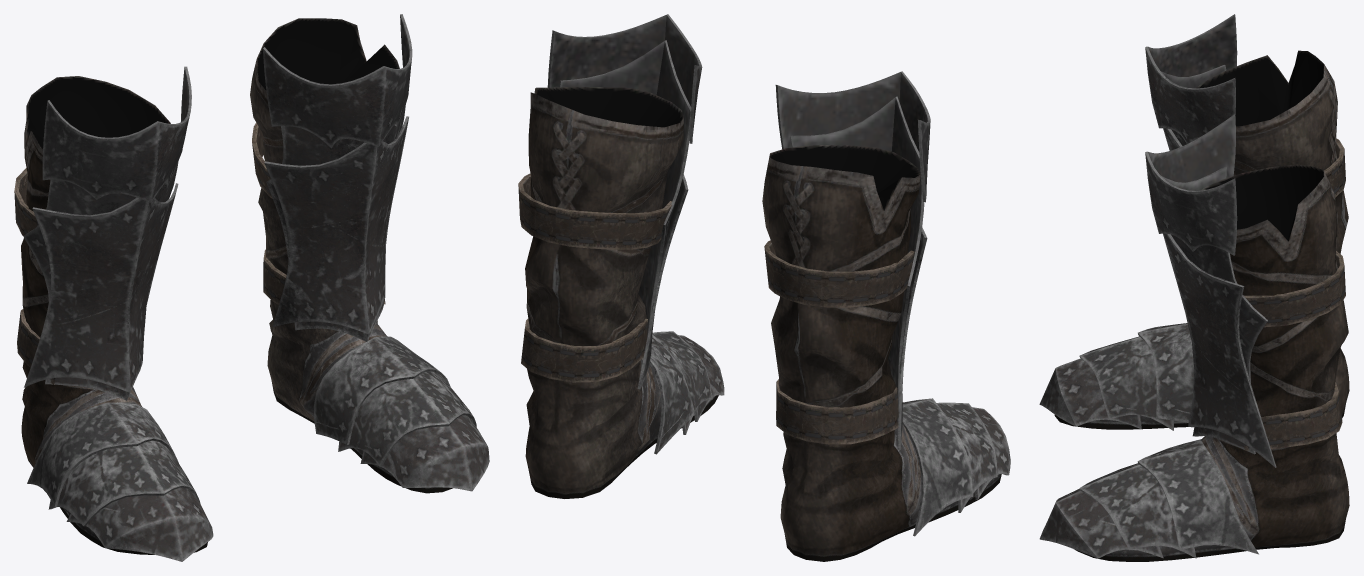
Rendered from sk_uruk_mordor_greaves_heavy_b.fbx.
The picture shows the model from 3 angles, left to right: view 1: azimuth 30°, elevation 25°; view 2: azimuth 150°, elevation 25°; view 3: azimuth 270°, elevation 25°; orthographic projection. The views are drawn at different scales.
Parts seen in each view (by area): view 1: sk_uruk_mordor_greaves_heavy_b.0, sk_uruk_mordor_greaves_heavy_b.1; view 2: sk_uruk_mordor_greaves_heavy_b.0, sk_uruk_mordor_greaves_heavy_b.1; view 3: sk_uruk_mordor_greaves_heavy_b.0, sk_uruk_mordor_greaves_heavy_b.1.
Part boxes in pixels (x1,y1,x2,y2): sk_uruk_mordor_greaves_heavy_b.0: (21, 14, 489, 561); sk_uruk_mordor_greaves_heavy_b.1: (14, 122, 385, 384); sk_uruk_mordor_greaves_heavy_b.0: (525, 14, 1010, 561); sk_uruk_mordor_greaves_heavy_b.1: (518, 173, 914, 444); sk_uruk_mordor_greaves_heavy_b.0: (1039, 14, 1349, 561); sk_uruk_mordor_greaves_heavy_b.1: (1244, 138, 1345, 450).
Size of the model in its own units: 0.5089 by 0.3596 by 0.4827.
Materials: 2 (2 with a texture image).
